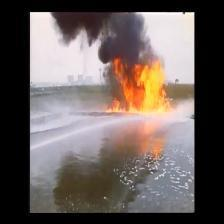fire: (108, 54, 170, 115)
